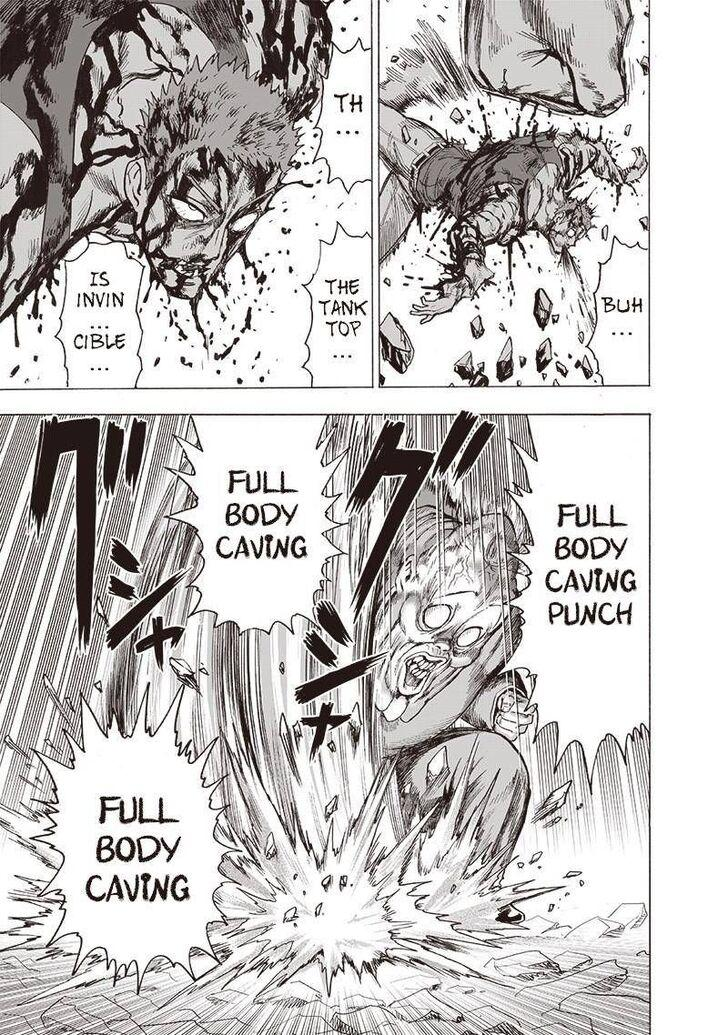Bubble: (28, 680, 244, 996), (496, 412, 652, 795), (162, 412, 352, 637), (53, 239, 146, 391), (301, 220, 374, 388), (585, 234, 651, 388), (313, 36, 374, 196)
